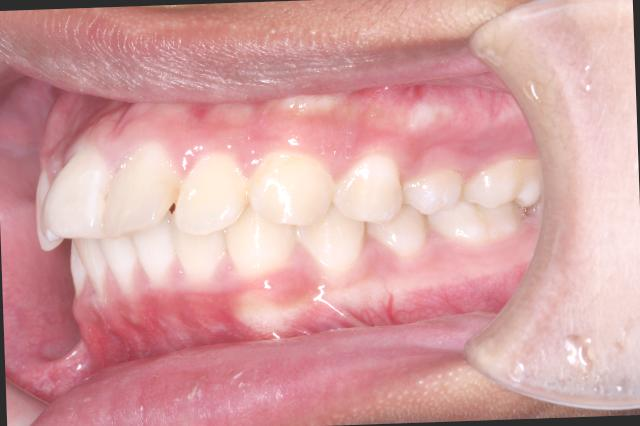canine class I: (220, 147, 368, 281)
molar class III 1/4: (424, 156, 548, 250)
